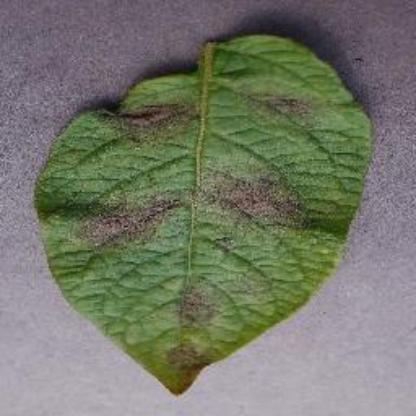Late-Blight: (35, 28, 385, 402)
